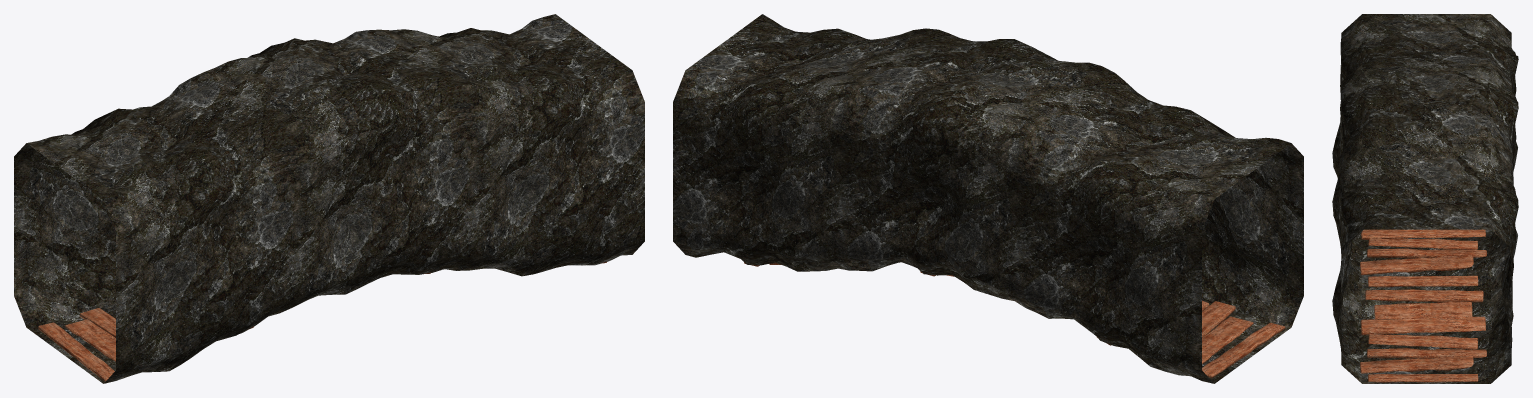
File: Cave_047.fbx
3 renders of one model, left to right at view 1: azimuth 30°, elevation 25°; view 2: azimuth 150°, elevation 25°; view 3: azimuth 270°, elevation 25°, orthographic. The views are drawn at different scales.
Parts seen in each view (by area): view 1: Cave.047; view 2: Cave.047; view 3: Cave.047.
Part boxes in pixels (x1,y1,x2,y2): Cave.047: (14,14,644,383); Cave.047: (673,14,1303,383); Cave.047: (1332,14,1518,383).
Size of the model in its own units: 900 by 369 by 328.
